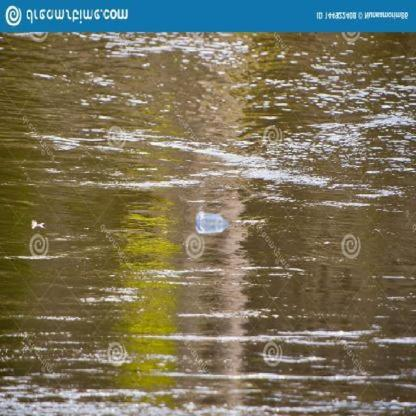plastic bottle: (195, 209, 230, 228)
